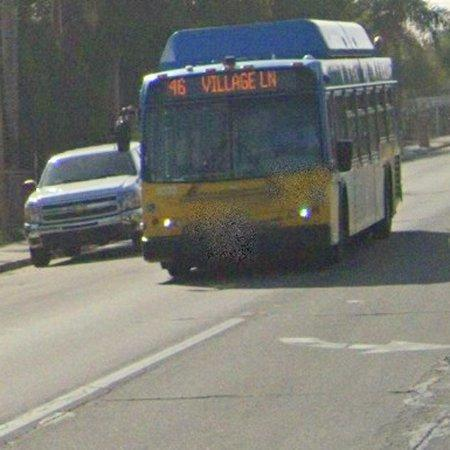buses: (140, 19, 403, 276)
